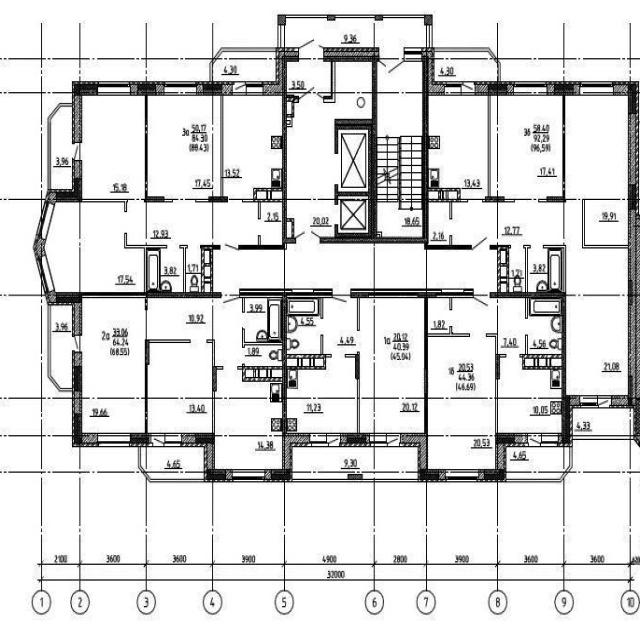Bathrooms: (528, 299, 561, 354), (287, 300, 320, 353), (244, 298, 282, 342), (146, 247, 183, 292), (529, 248, 561, 292), (245, 345, 282, 366), (509, 248, 525, 291), (186, 249, 201, 292)
Corridors: (287, 62, 372, 238), (213, 244, 497, 293), (148, 298, 242, 365), (452, 200, 582, 248), (127, 203, 257, 244), (453, 298, 525, 353), (286, 19, 426, 47), (293, 448, 418, 479), (141, 447, 203, 479), (507, 447, 569, 479), (434, 51, 497, 81), (50, 106, 72, 190), (213, 52, 276, 81), (324, 298, 357, 353), (51, 306, 72, 388), (573, 408, 634, 435), (287, 62, 331, 95), (377, 61, 422, 92), (261, 203, 282, 244), (429, 203, 449, 245), (429, 298, 448, 332)
Doors: (380, 47, 405, 75), (298, 37, 324, 61), (299, 85, 324, 104), (295, 229, 320, 244), (332, 289, 351, 305), (471, 235, 490, 250), (473, 293, 490, 307), (221, 293, 239, 305), (150, 433, 165, 447), (528, 434, 542, 447), (462, 82, 475, 96), (387, 433, 400, 447), (327, 434, 341, 447), (597, 396, 611, 409), (233, 80, 245, 95), (72, 142, 82, 160), (220, 242, 239, 251), (73, 335, 82, 353), (172, 198, 196, 203), (335, 153, 338, 185), (515, 199, 539, 202), (190, 339, 207, 343), (470, 333, 487, 337), (124, 212, 127, 233), (145, 310, 147, 340), (223, 366, 238, 370), (335, 204, 338, 224), (331, 354, 344, 358), (128, 199, 144, 202), (242, 348, 245, 364), (525, 318, 528, 334), (358, 330, 360, 352), (228, 199, 242, 202), (166, 245, 180, 248), (468, 199, 482, 202), (511, 245, 524, 248), (258, 218, 260, 236), (188, 245, 200, 248), (321, 318, 323, 335), (242, 312, 244, 328), (450, 310, 452, 326), (450, 219, 452, 235), (506, 355, 520, 357), (530, 246, 543, 248)
LBwalls: (609, 81, 640, 447), (334, 118, 378, 239), (181, 433, 232, 483), (72, 350, 98, 448), (479, 433, 529, 483), (265, 433, 311, 483), (400, 433, 445, 483), (262, 47, 300, 96), (45, 289, 82, 337), (72, 80, 98, 145), (45, 159, 82, 204), (350, 288, 474, 298), (421, 47, 445, 97), (558, 394, 580, 447), (422, 97, 429, 237), (323, 47, 380, 62), (240, 289, 333, 298), (197, 80, 233, 95), (474, 82, 514, 95), (340, 432, 370, 447), (546, 82, 580, 95), (131, 82, 164, 95), (32, 235, 47, 258), (372, 62, 378, 118), (130, 433, 152, 447), (424, 14, 433, 26), (278, 14, 286, 25), (327, 15, 336, 21), (375, 15, 383, 21)
Offices: (566, 95, 628, 245), (567, 248, 628, 395), (45, 202, 144, 292), (428, 338, 495, 469), (360, 298, 424, 432), (82, 299, 144, 432), (491, 96, 563, 199), (148, 96, 220, 198), (215, 370, 282, 469), (82, 96, 144, 199), (428, 96, 488, 199), (224, 96, 282, 199), (148, 343, 212, 432), (287, 358, 357, 433), (498, 358, 562, 432)
Stairs: (377, 92, 422, 237)
Walls: (237, 298, 332, 433), (490, 244, 567, 394), (82, 232, 222, 310), (238, 96, 299, 250), (424, 297, 470, 433), (144, 339, 191, 433), (482, 96, 515, 203), (195, 96, 228, 202), (144, 95, 173, 203), (538, 95, 567, 202), (138, 447, 204, 483), (506, 447, 573, 482), (434, 47, 501, 82), (582, 198, 628, 248), (209, 47, 276, 81), (48, 305, 73, 391), (48, 102, 72, 190), (486, 333, 506, 433), (206, 339, 224, 433), (242, 187, 282, 219), (429, 187, 468, 219), (345, 351, 360, 433), (319, 237, 429, 244), (334, 184, 368, 205), (82, 199, 128, 212), (323, 61, 336, 104), (292, 479, 418, 483), (334, 224, 368, 237), (573, 435, 634, 439), (424, 245, 472, 250), (383, 14, 424, 18), (286, 15, 327, 18), (336, 15, 374, 18), (357, 298, 360, 332), (335, 130, 338, 154), (242, 297, 245, 313), (321, 298, 323, 319), (526, 298, 528, 319), (449, 235, 452, 245), (377, 231, 382, 237), (450, 298, 452, 311)
Windows: (35, 200, 55, 240), (37, 255, 55, 295), (580, 81, 615, 95), (97, 82, 131, 96), (513, 82, 548, 95), (98, 433, 130, 447), (445, 469, 479, 482), (232, 469, 265, 482), (164, 82, 197, 95), (404, 47, 421, 61), (310, 433, 328, 446), (369, 433, 387, 446), (245, 82, 263, 95), (580, 396, 599, 408), (541, 434, 558, 447), (445, 82, 462, 95), (165, 434, 181, 446), (278, 24, 285, 47), (426, 25, 432, 47)
